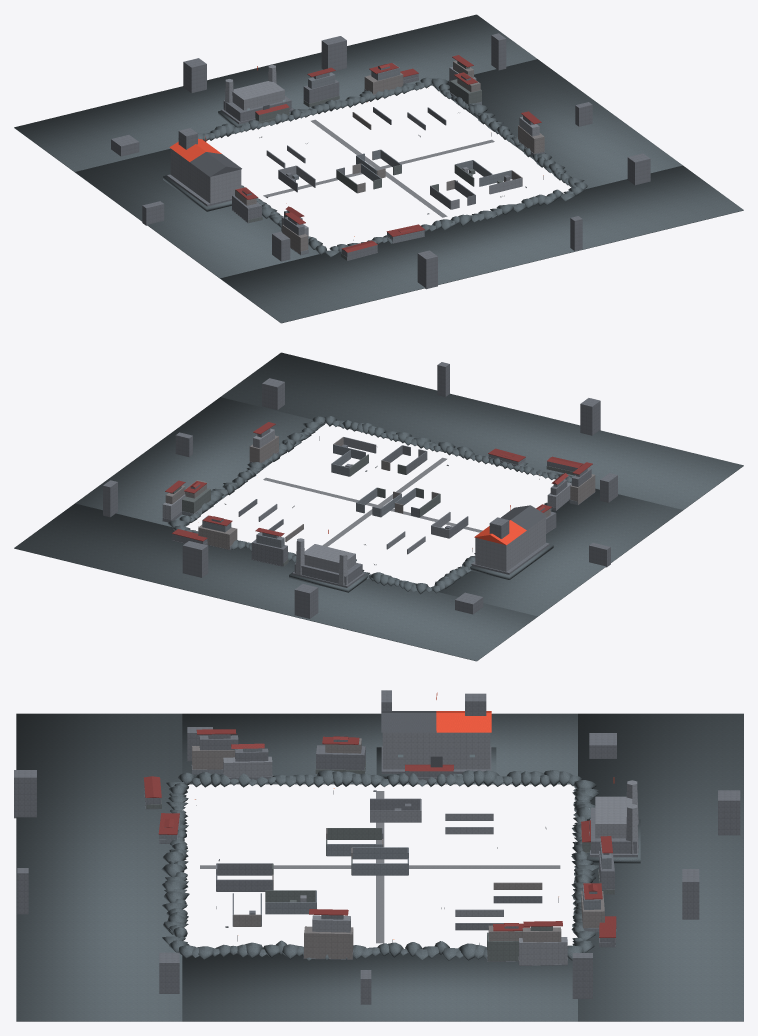
Rendered from kunren-lod2.glb.
The picture shows the model from 3 angles, top to bottom: view 1: azimuth 30°, elevation 25°; view 2: azimuth 150°, elevation 25°; view 3: azimuth 270°, elevation 25°; orthographic projection. The views are drawn at different scales.
Parts seen in each view (by area): view 1: HB_kunren_LOD2_terrain, HB_kunren_LOD2_wall_alt, HB_kunren_LOD2_wall_warm, HB_kunren_LOD2_wall_cool, HB_kunren_LOD2_LANDMARK_1_wall, HB_kunren_LOD2_roof, HB_kunren_LOD2_wall_weathered, HB_kunren_LOD2_wall, HB_kunren_LOD2_LANDMARK_0_wall, HB_kunren_LOD2_road, HB_kunren_LOD2_LANDMARK_1_trim, HB_kunren_LOD2_LANDMARK_0_wall_alt (+2 smaller); view 2: HB_kunren_LOD2_terrain, HB_kunren_LOD2_wall_alt, HB_kunren_LOD2_wall_warm, HB_kunren_LOD2_wall_cool, HB_kunren_LOD2_wall, HB_kunren_LOD2_LANDMARK_1_wall, HB_kunren_LOD2_roof, HB_kunren_LOD2_LANDMARK_0_wall, HB_kunren_LOD2_wall_weathered, HB_kunren_LOD2_road, HB_kunren_LOD2_LANDMARK_0_wall_alt, HB_kunren_LOD2_LANDMARK_1_wall_alt (+2 smaller); view 3: HB_kunren_LOD2_terrain, HB_kunren_LOD2_wall_alt, HB_kunren_LOD2_wall_warm, HB_kunren_LOD2_wall, HB_kunren_LOD2_LANDMARK_1_wall, HB_kunren_LOD2_roof, HB_kunren_LOD2_wall_cool, HB_kunren_LOD2_wall_weathered, HB_kunren_LOD2_LANDMARK_0_wall, HB_kunren_LOD2_road, HB_kunren_LOD2_LANDMARK_1_trim, HB_kunren_LOD2_LANDMARK_1_accent (+2 smaller).
Boxes of the visible parts, box(x1,y1,x2,y2) form: HB_kunren_LOD2_terrain: box(14, 14, 743, 323); HB_kunren_LOD2_wall_alt: box(111, 33, 650, 289); HB_kunren_LOD2_wall_warm: box(235, 60, 544, 254); HB_kunren_LOD2_wall_cool: box(287, 63, 511, 254); HB_kunren_LOD2_LANDMARK_1_wall: box(170, 148, 241, 203); HB_kunren_LOD2_roof: box(235, 55, 541, 252); HB_kunren_LOD2_wall_weathered: box(248, 61, 503, 260); HB_kunren_LOD2_wall: box(266, 67, 539, 236); HB_kunren_LOD2_LANDMARK_0_wall: box(224, 64, 284, 111); HB_kunren_LOD2_road: box(263, 119, 494, 217); HB_kunren_LOD2_LANDMARK_1_trim: box(190, 152, 241, 176); HB_kunren_LOD2_LANDMARK_0_wall_alt: box(221, 96, 293, 124); HB_kunren_LOD2_terrain: box(14, 352, 743, 661); HB_kunren_LOD2_wall_alt: box(103, 362, 617, 618); HB_kunren_LOD2_wall_warm: box(165, 435, 595, 549); HB_kunren_LOD2_wall_cool: box(182, 444, 577, 549); HB_kunren_LOD2_wall: box(162, 428, 571, 554); HB_kunren_LOD2_LANDMARK_1_wall: box(475, 517, 545, 571); HB_kunren_LOD2_roof: box(165, 422, 592, 541); HB_kunren_LOD2_LANDMARK_0_wall: box(295, 538, 355, 585); HB_kunren_LOD2_wall_weathered: box(170, 454, 575, 566); HB_kunren_LOD2_road: box(263, 457, 482, 546); HB_kunren_LOD2_LANDMARK_0_wall_alt: box(292, 562, 364, 587); HB_kunren_LOD2_LANDMARK_1_wall_alt: box(471, 517, 549, 574); HB_kunren_LOD2_terrain: box(16, 713, 743, 1021); HB_kunren_LOD2_wall_alt: box(14, 690, 740, 1004); HB_kunren_LOD2_wall_warm: box(192, 738, 604, 959); HB_kunren_LOD2_wall: box(216, 756, 567, 965); HB_kunren_LOD2_LANDMARK_1_wall: box(382, 732, 490, 769); HB_kunren_LOD2_roof: box(143, 729, 616, 937); HB_kunren_LOD2_wall_cool: box(159, 748, 611, 960); HB_kunren_LOD2_wall_weathered: box(146, 761, 614, 961); HB_kunren_LOD2_LANDMARK_0_wall: box(595, 780, 638, 853); HB_kunren_LOD2_road: box(200, 791, 560, 943); HB_kunren_LOD2_LANDMARK_1_trim: box(381, 711, 442, 767); HB_kunren_LOD2_LANDMARK_1_accent: box(436, 692, 491, 732).
Size of the model in its own units: 571 by 64.55 by 572.
Materials: 12 (10 with a texture image).
